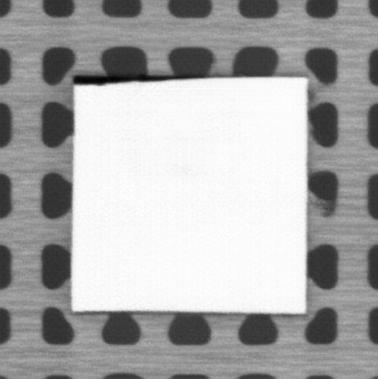DIE_BROKEN: (70, 72, 186, 86)
